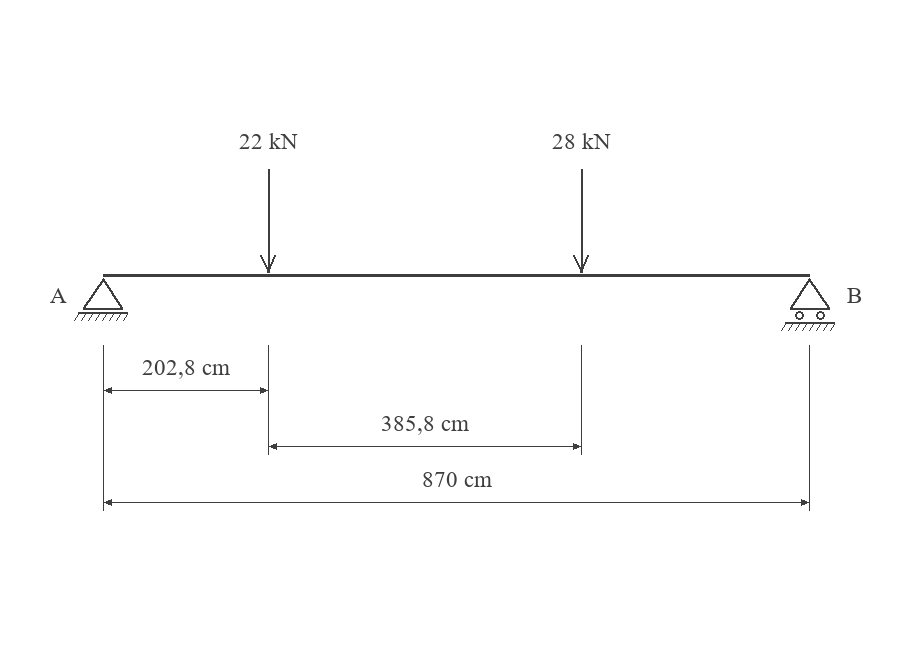pin_support: (74, 278, 128, 321)
point_load: (260, 169, 276, 273), (573, 169, 589, 273)
roller_support: (781, 278, 835, 331)
